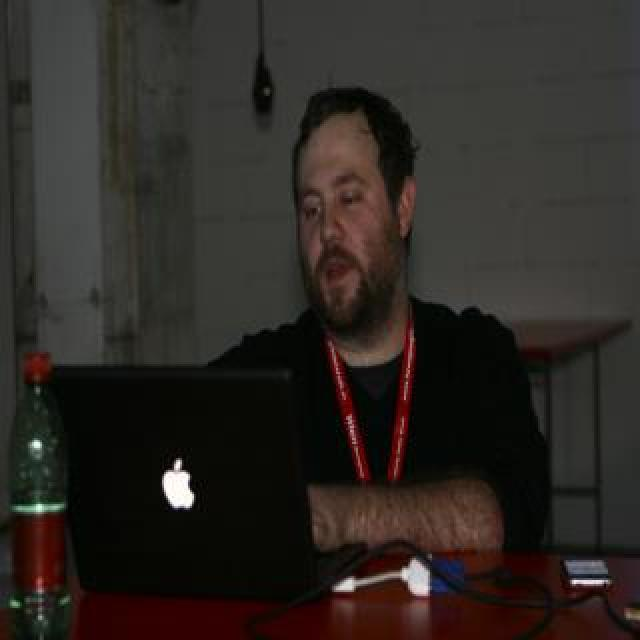laptop_computer: (42, 352, 366, 616)
